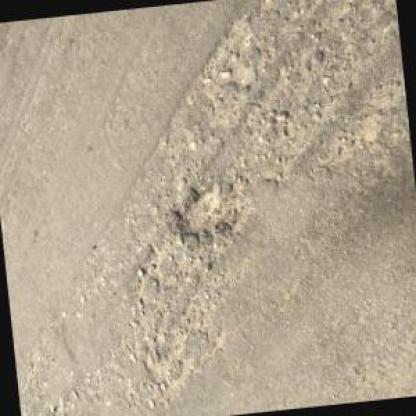pothole: (169, 178, 244, 242), (132, 244, 169, 284)
